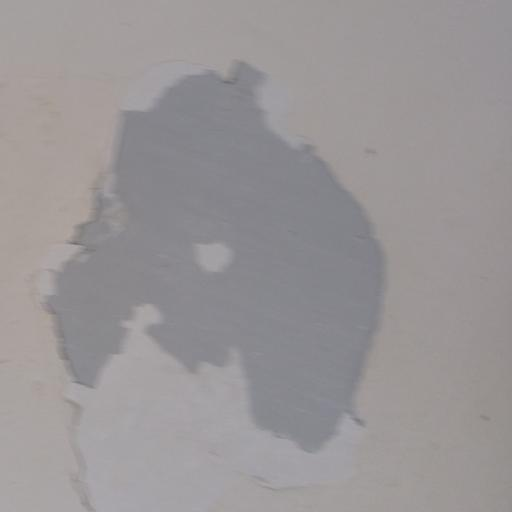peeling: (33, 52, 392, 475)
